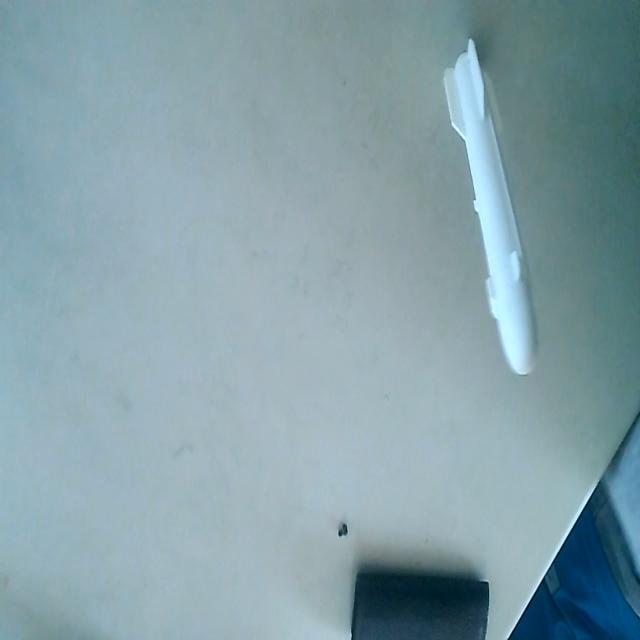Rocket: (440, 36, 544, 378)
